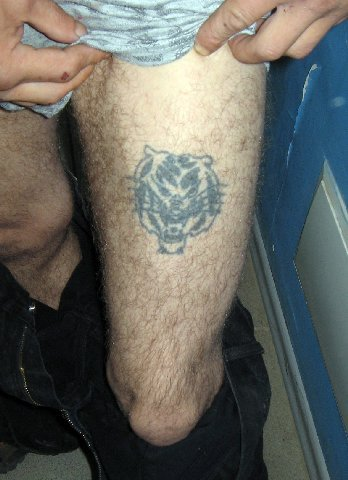tatu5_tigr: (123, 144, 230, 258)
